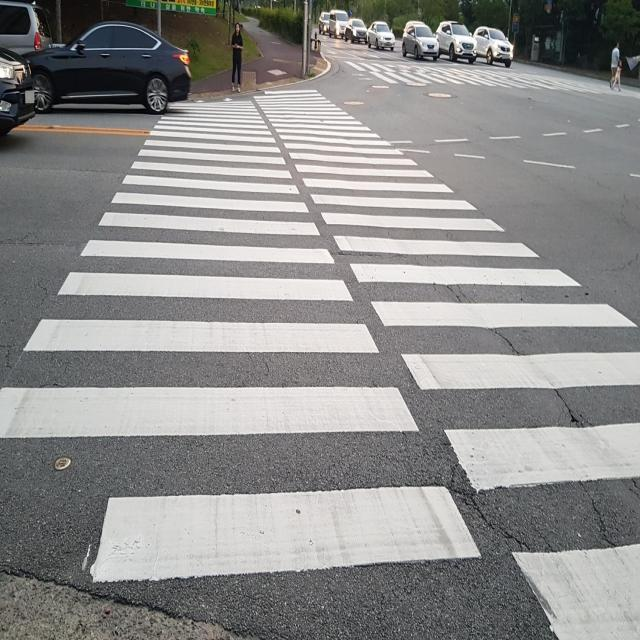횡단보도: (0, 90, 640, 639), (338, 61, 600, 88)
